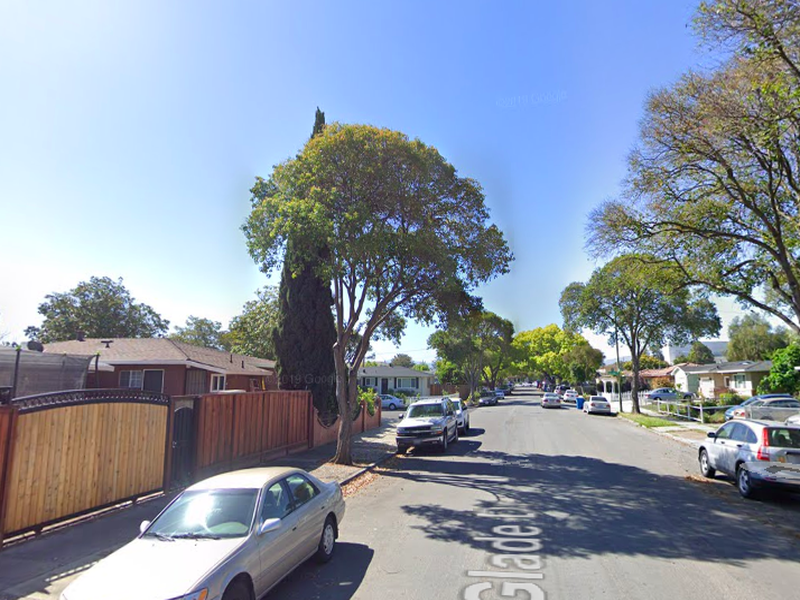tree: (240, 119, 515, 472), (561, 251, 723, 416)
